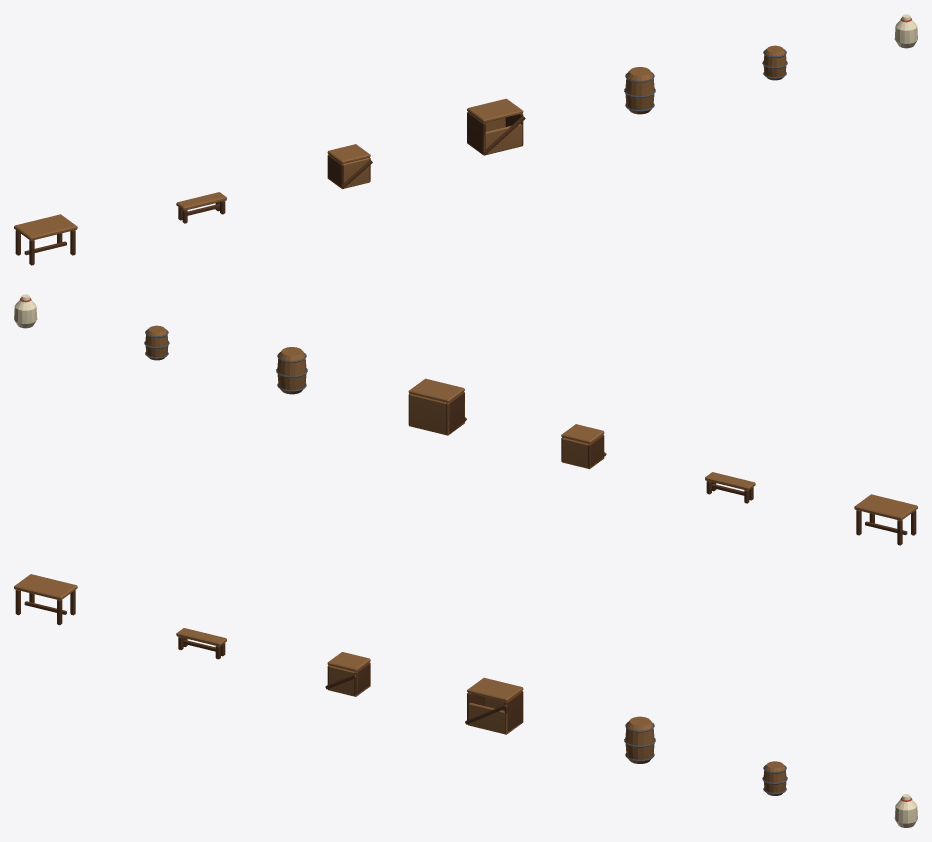
File: supplies.glb
The picture shows the model from 3 angles, top to bottom: view 1: azimuth 30°, elevation 25°; view 2: azimuth 150°, elevation 25°; view 3: azimuth 330°, elevation 25°; orthographic projection.
Parts seen in each view (by area): view 1: MillBin, CottageTable, StorageCrate, BarrelA, Bench, BarrelB, GrainSack; view 2: MillBin, CottageTable, StorageCrate, BarrelA, Bench, BarrelB, GrainSack; view 3: MillBin, CottageTable, StorageCrate, BarrelA, Bench, BarrelB, GrainSack.
Boxes of the visible parts, x1,y1,x2,y2 form: MillBin: (467, 98, 525, 155); CottageTable: (14, 214, 77, 265); StorageCrate: (327, 144, 372, 189); BarrelA: (624, 67, 655, 114); Bench: (176, 192, 226, 223); BarrelB: (762, 45, 787, 80); GrainSack: (894, 14, 917, 48); MillBin: (408, 378, 466, 435); CottageTable: (854, 494, 917, 545); StorageCrate: (561, 424, 606, 469); BarrelA: (276, 347, 307, 394); Bench: (705, 472, 755, 503); BarrelB: (144, 325, 169, 360); GrainSack: (14, 294, 37, 328); MillBin: (465, 677, 523, 734); CottageTable: (14, 574, 77, 625); StorageCrate: (325, 652, 370, 696); BarrelA: (624, 716, 655, 763); Bench: (176, 628, 226, 659); BarrelB: (762, 761, 787, 795); GrainSack: (894, 794, 917, 827).
Bounding box in the file's own units: 24.38 × 1 × 0.86.
